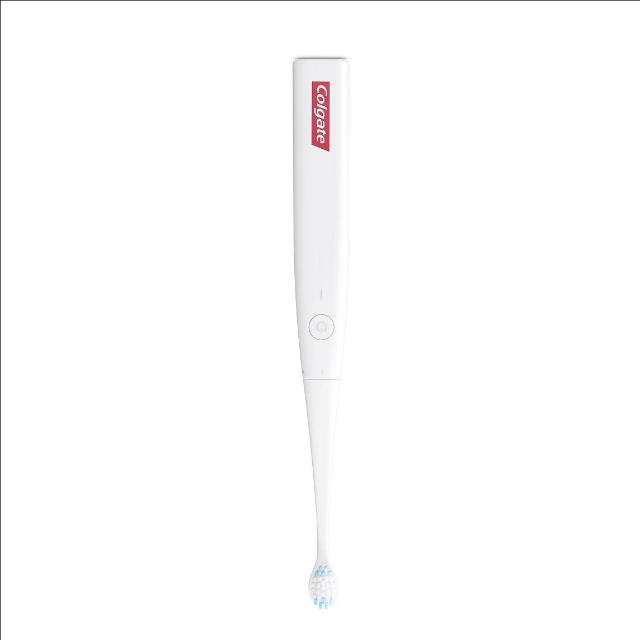toothbrush: (266, 47, 362, 613)
